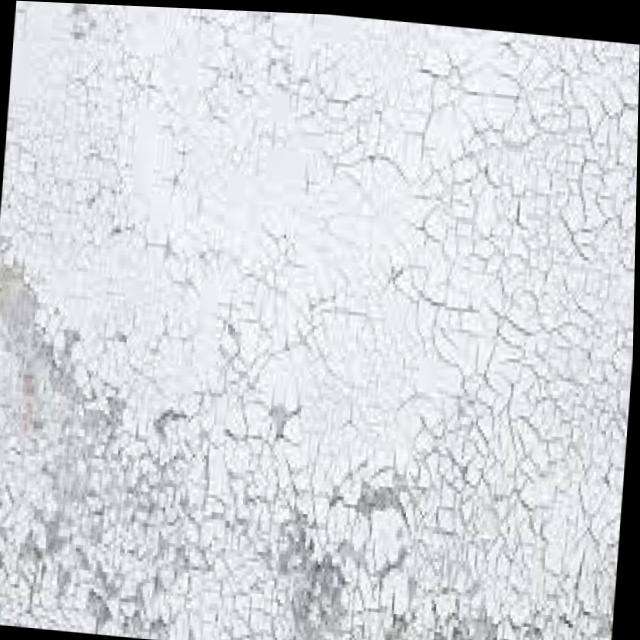Crack: (15, 332, 623, 640), (34, 59, 639, 318)
